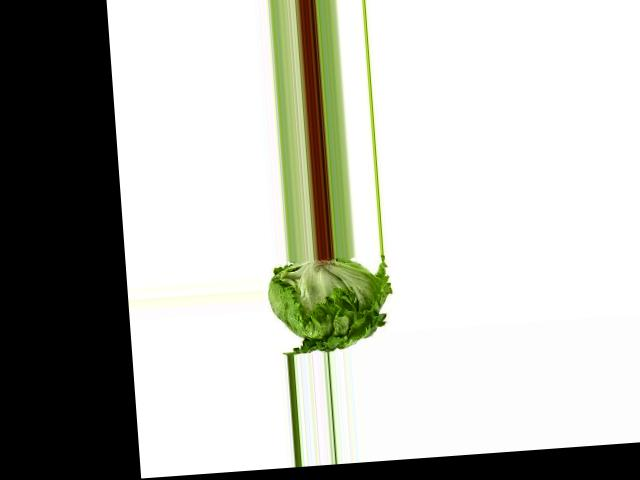lettuce: (262, 253, 400, 355)
